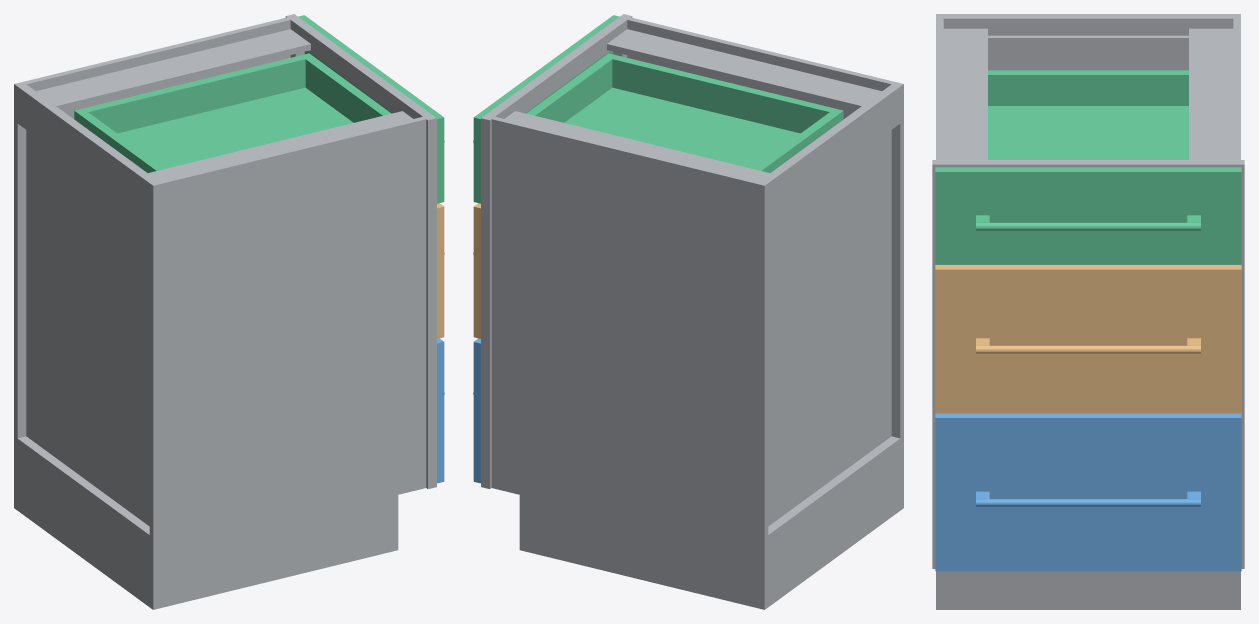
File: parts.glb
3 views of the same model, side by side, from view 1: azimuth 30°, elevation 25°; view 2: azimuth 150°, elevation 25°; view 3: azimuth 270°, elevation 25° (orthographic). The views are drawn at different scales.
Parts seen in each view (by area): view 1: visual_0_0, visual_3_0, visual_1_0, visual_2_0; view 2: visual_0_0, visual_3_0, visual_1_0, visual_2_0; view 3: visual_1_0, visual_3_0, visual_2_0, visual_0_0.
Part boxes in pixels (x1=…): visual_0_0: x1=14, y1=14, x2=436, y2=609; visual_3_0: x1=74, y1=15, x2=444, y2=203; visual_1_0: x1=437, y1=338, x2=444, y2=483; visual_2_0: x1=437, y1=203, x2=444, y2=338; visual_0_0: x1=481, y1=14, x2=903, y2=609; visual_3_0: x1=473, y1=15, x2=843, y2=203; visual_1_0: x1=473, y1=338, x2=480, y2=483; visual_2_0: x1=473, y1=203, x2=480, y2=338; visual_1_0: x1=935, y1=413, x2=1241, y2=571; visual_3_0: x1=935, y1=70, x2=1241, y2=264; visual_2_0: x1=935, y1=265, x2=1241, y2=412; visual_0_0: x1=932, y1=14, x2=1244, y2=609.
Size of the model in its own units: 1.12 by 1.46 by 0.8903.
